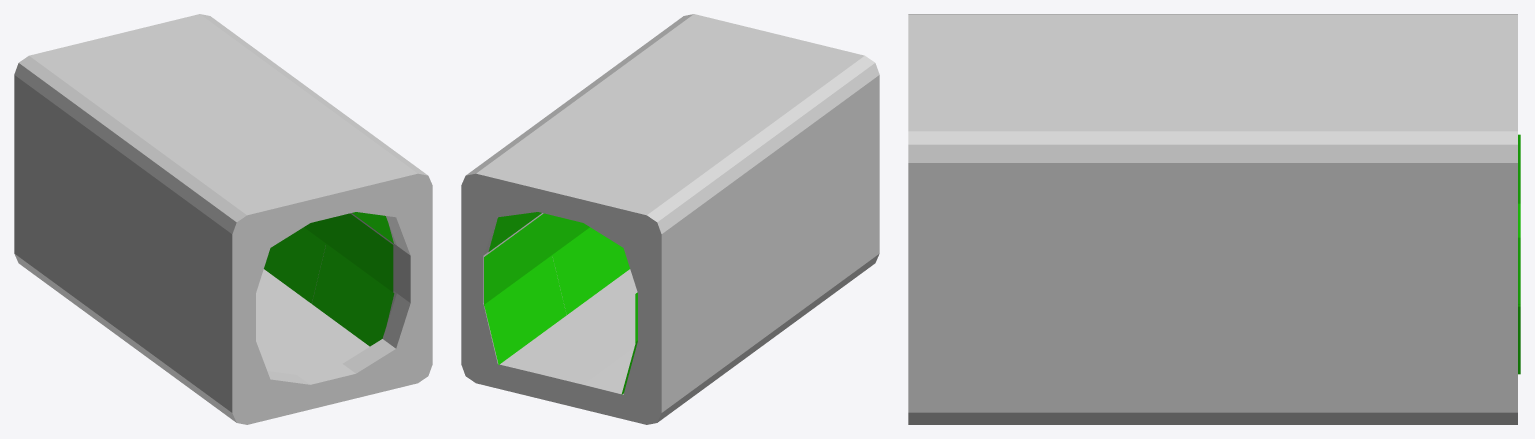
The model's file is Corridor.fbx.
The picture shows the model from 3 angles, left to right: view 1: azimuth 30°, elevation 25°; view 2: azimuth 150°, elevation 25°; view 3: azimuth 270°, elevation 25°; orthographic projection. The views are drawn at different scales.
Parts seen in each view (by area): view 1: Corridor, PanelBottom3, PanelSide2, PanelBottom2, PanelTop1; view 2: Corridor, PanelBottom1, PanelBottom2, PanelSide3, PanelTop3, PanelSide1; view 3: Corridor.
Part boxes in pixels (x1,y1,x2,y2): Corridor: (14,14,432,424); PanelBottom3: (312,244,394,346); PanelSide2: (325,213,393,292); PanelBottom2: (264,227,325,303); PanelTop1: (352,212,393,243); Corridor: (461,14,879,424); PanelBottom1: (484,255,566,364); PanelBottom2: (552,227,629,314); PanelSide3: (484,213,551,305); PanelTop3: (488,212,541,251); PanelSide1: (552,215,589,254); Corridor: (908,14,1517,424).
Bounding box in the file's own units: 1700 × 1700 × 3219.
